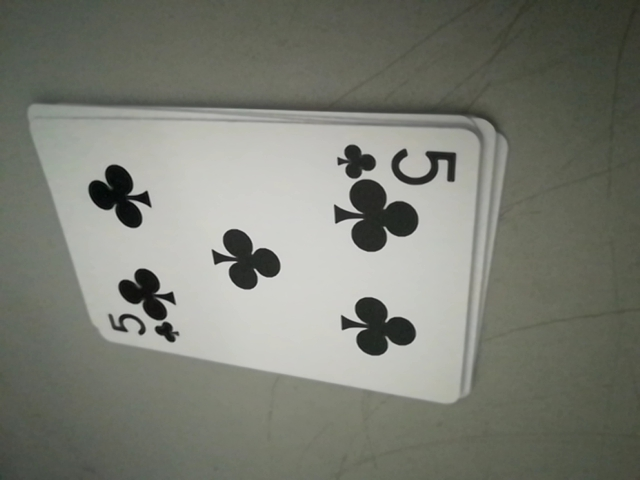mh 5: (334, 137, 462, 184), (100, 310, 186, 346)
